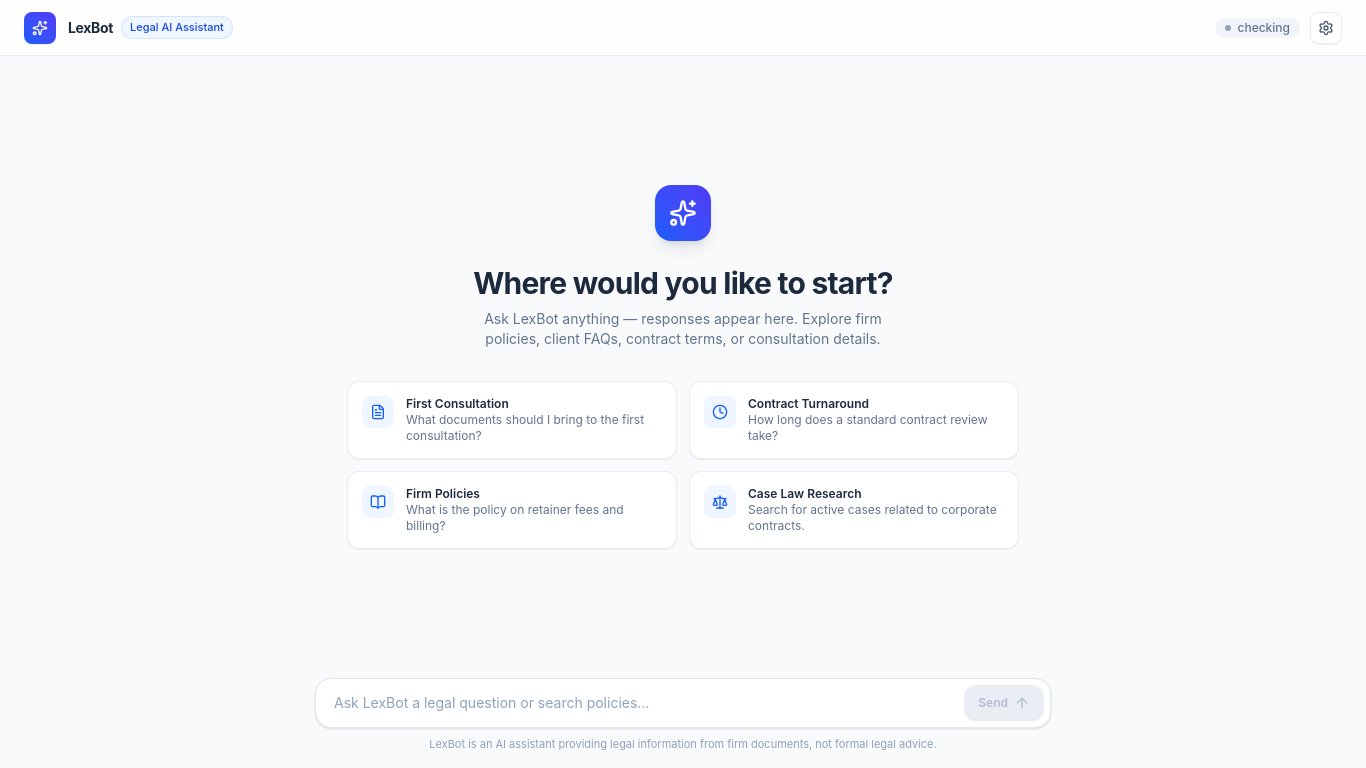
Test: ChatView Settings Integration › opens settings modal when clicking the settings button in header
Click the button named "open settings".
click(1326, 28)  # box [1310,12,1342,44]
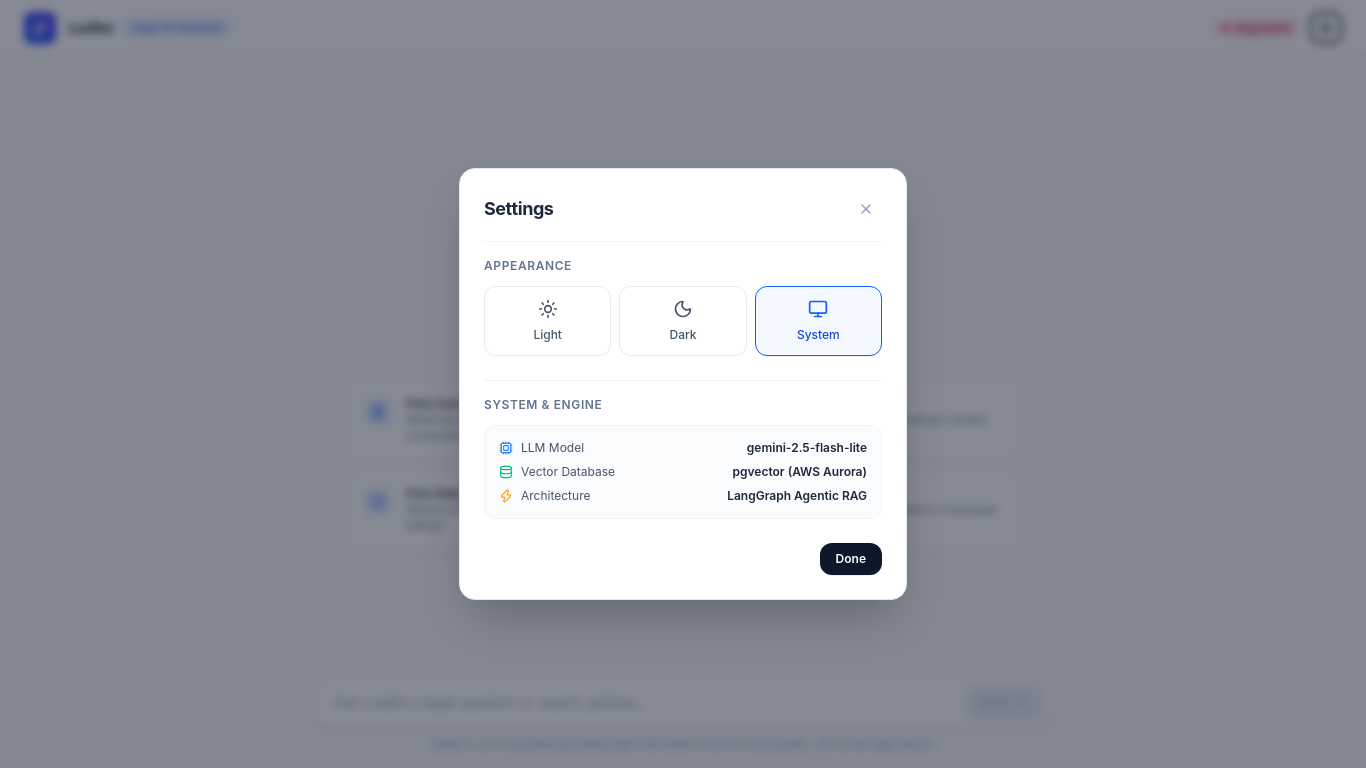
Check: the dialog with test id "settings-modal" is shown
